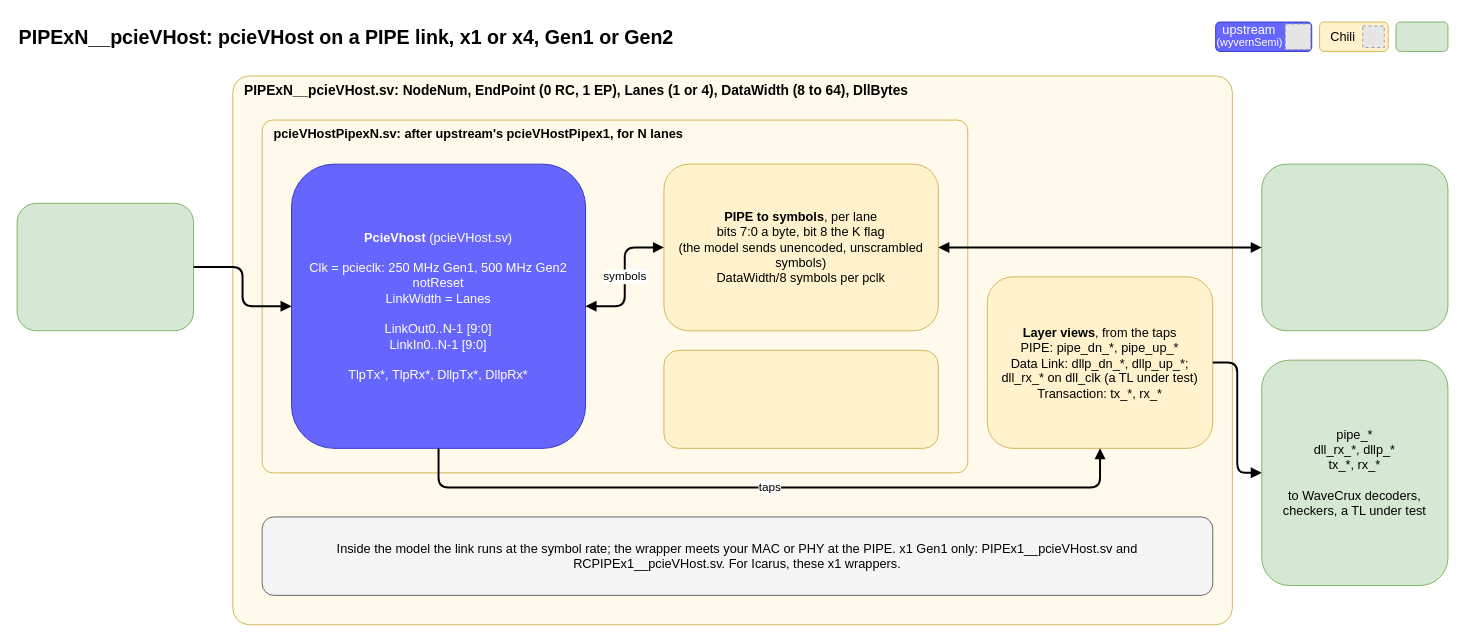
The diagram is 1465 pixels wide and 642 high, and some of its shapes have lost their labels. Grey dashed boxes stand in for pictures. The centre of each missing label's shape, as x and y in pixels:
"Clocks pcieclk from pclk and gen2; pclk = pcieclk / (DataWidth/8)" belongs at point (800, 398).
"pclk gen2 nreset Gen2ClkSel (out)" belongs at point (105, 266).
"ports" belongs at point (1421, 36).
"TxData, TxDataK (out) RxData, RxDataK (in) Lanes x DataWidth" belongs at point (1354, 247).
